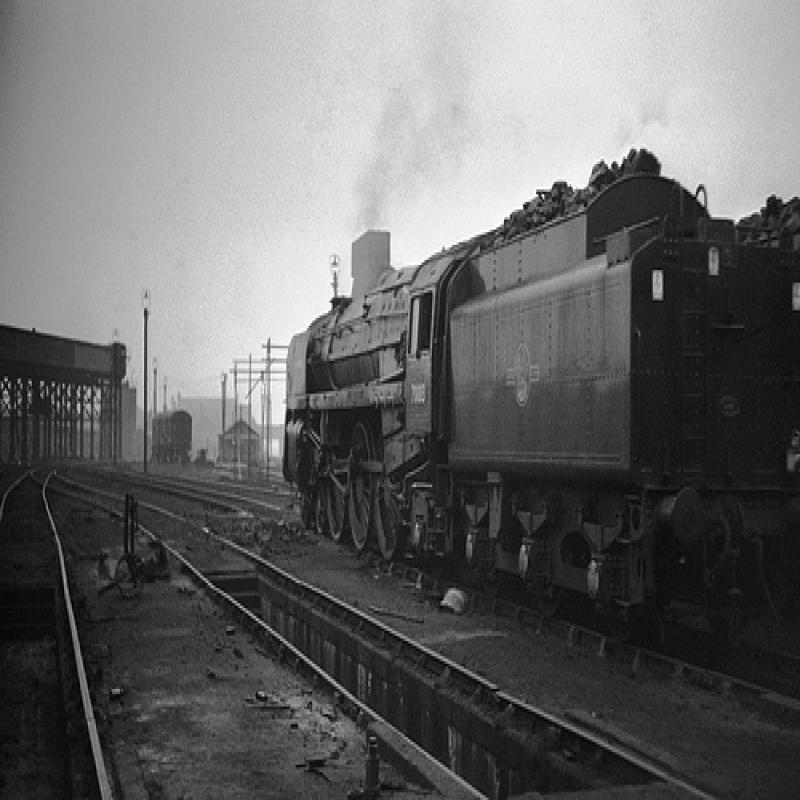train: (281, 150, 800, 670), (150, 410, 193, 465)
